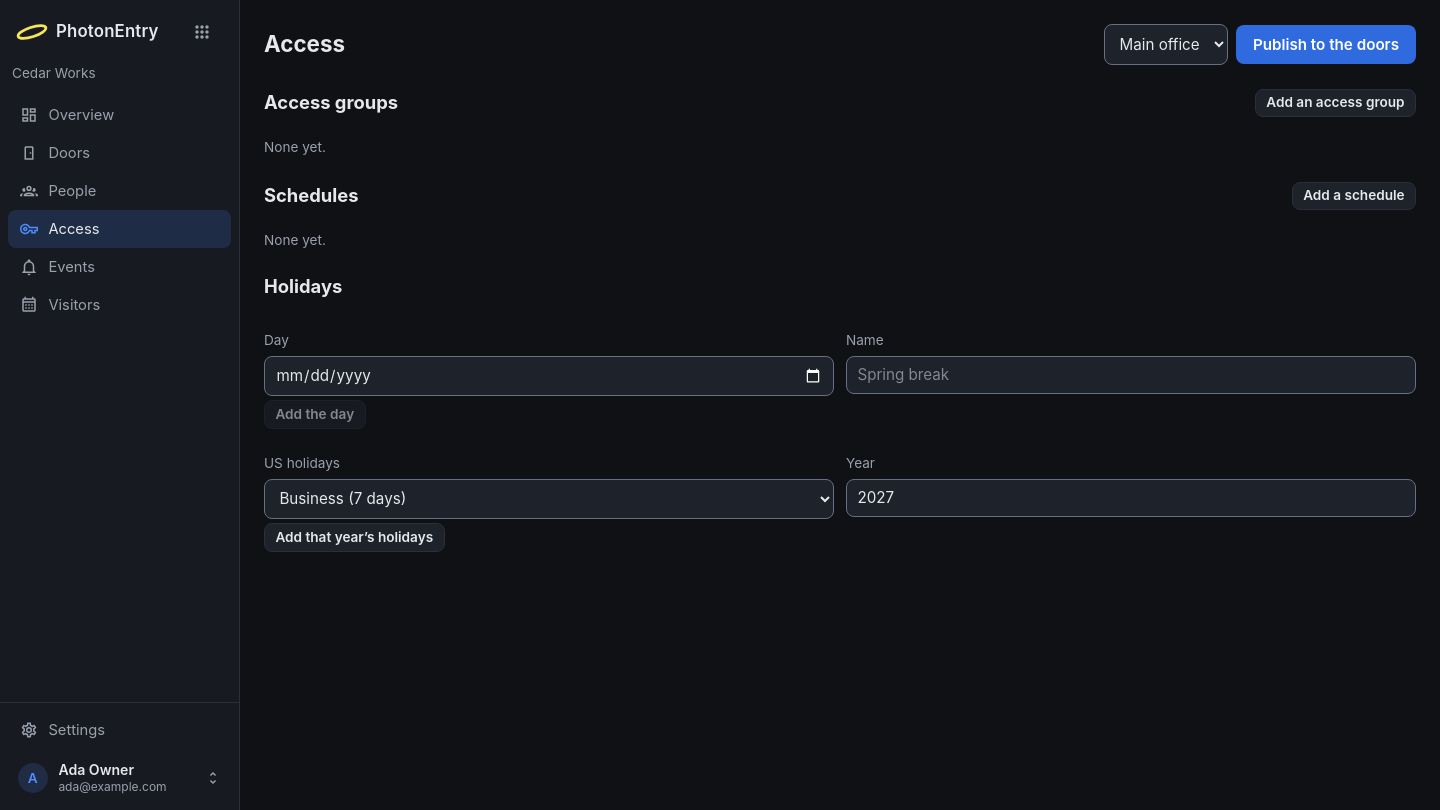
it: publishing problems › lists why a site cannot be published
Click the button "Publish to the doors": (1326, 44) [1236,25,1416,64]
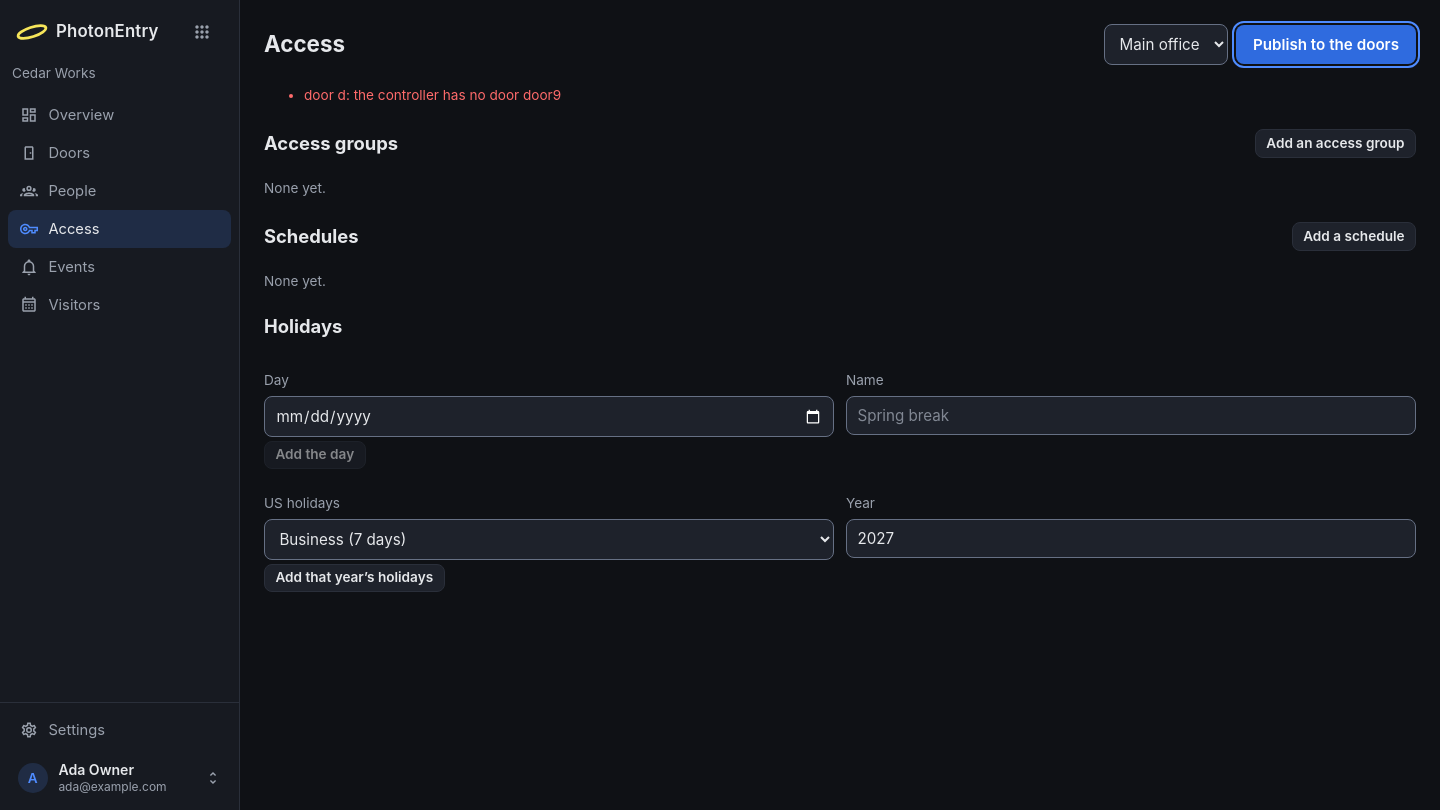
Expected: the text "None yet." is shown 2 times, [264,180,326,196]; [264,272,326,288]
Result: the list item "door d: the controller has no door door9" is shown at [304,87,561,103]
